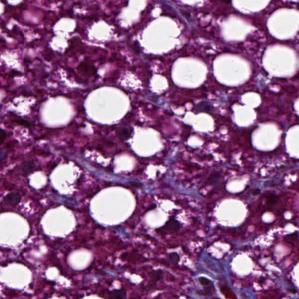steatosis: (90, 183, 134, 230), (140, 17, 183, 56), (86, 85, 128, 123), (228, 87, 263, 129), (1, 204, 29, 256), (215, 47, 250, 88), (37, 93, 76, 128), (0, 255, 35, 293), (170, 55, 208, 89), (130, 125, 167, 159), (38, 207, 77, 239), (212, 195, 249, 228), (261, 45, 296, 78), (180, 106, 218, 135), (268, 8, 299, 41), (250, 123, 281, 151), (232, 253, 256, 276), (69, 250, 93, 269)
